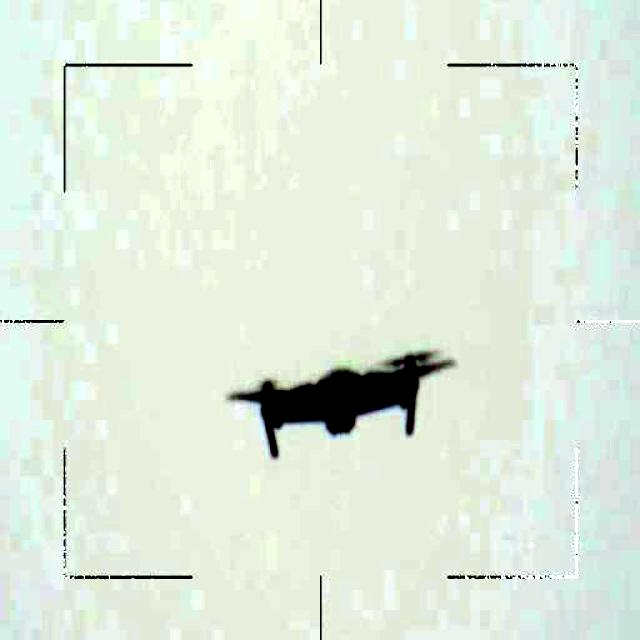bird: (220, 341, 464, 461)
